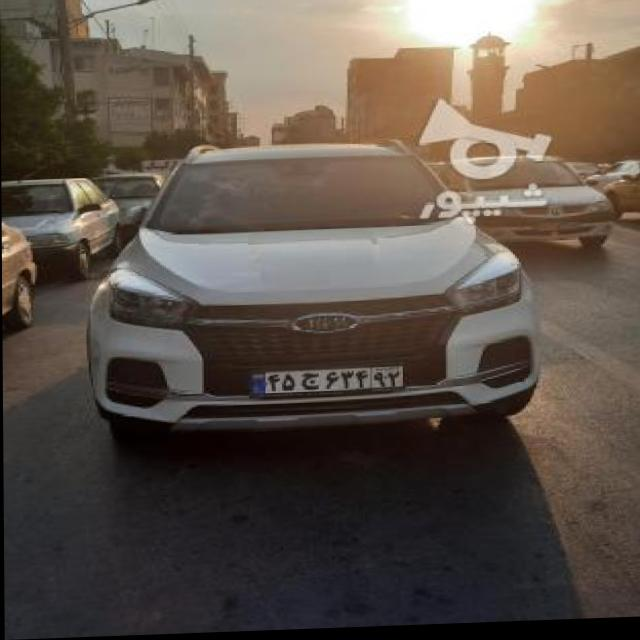licence: (244, 364, 404, 396)
